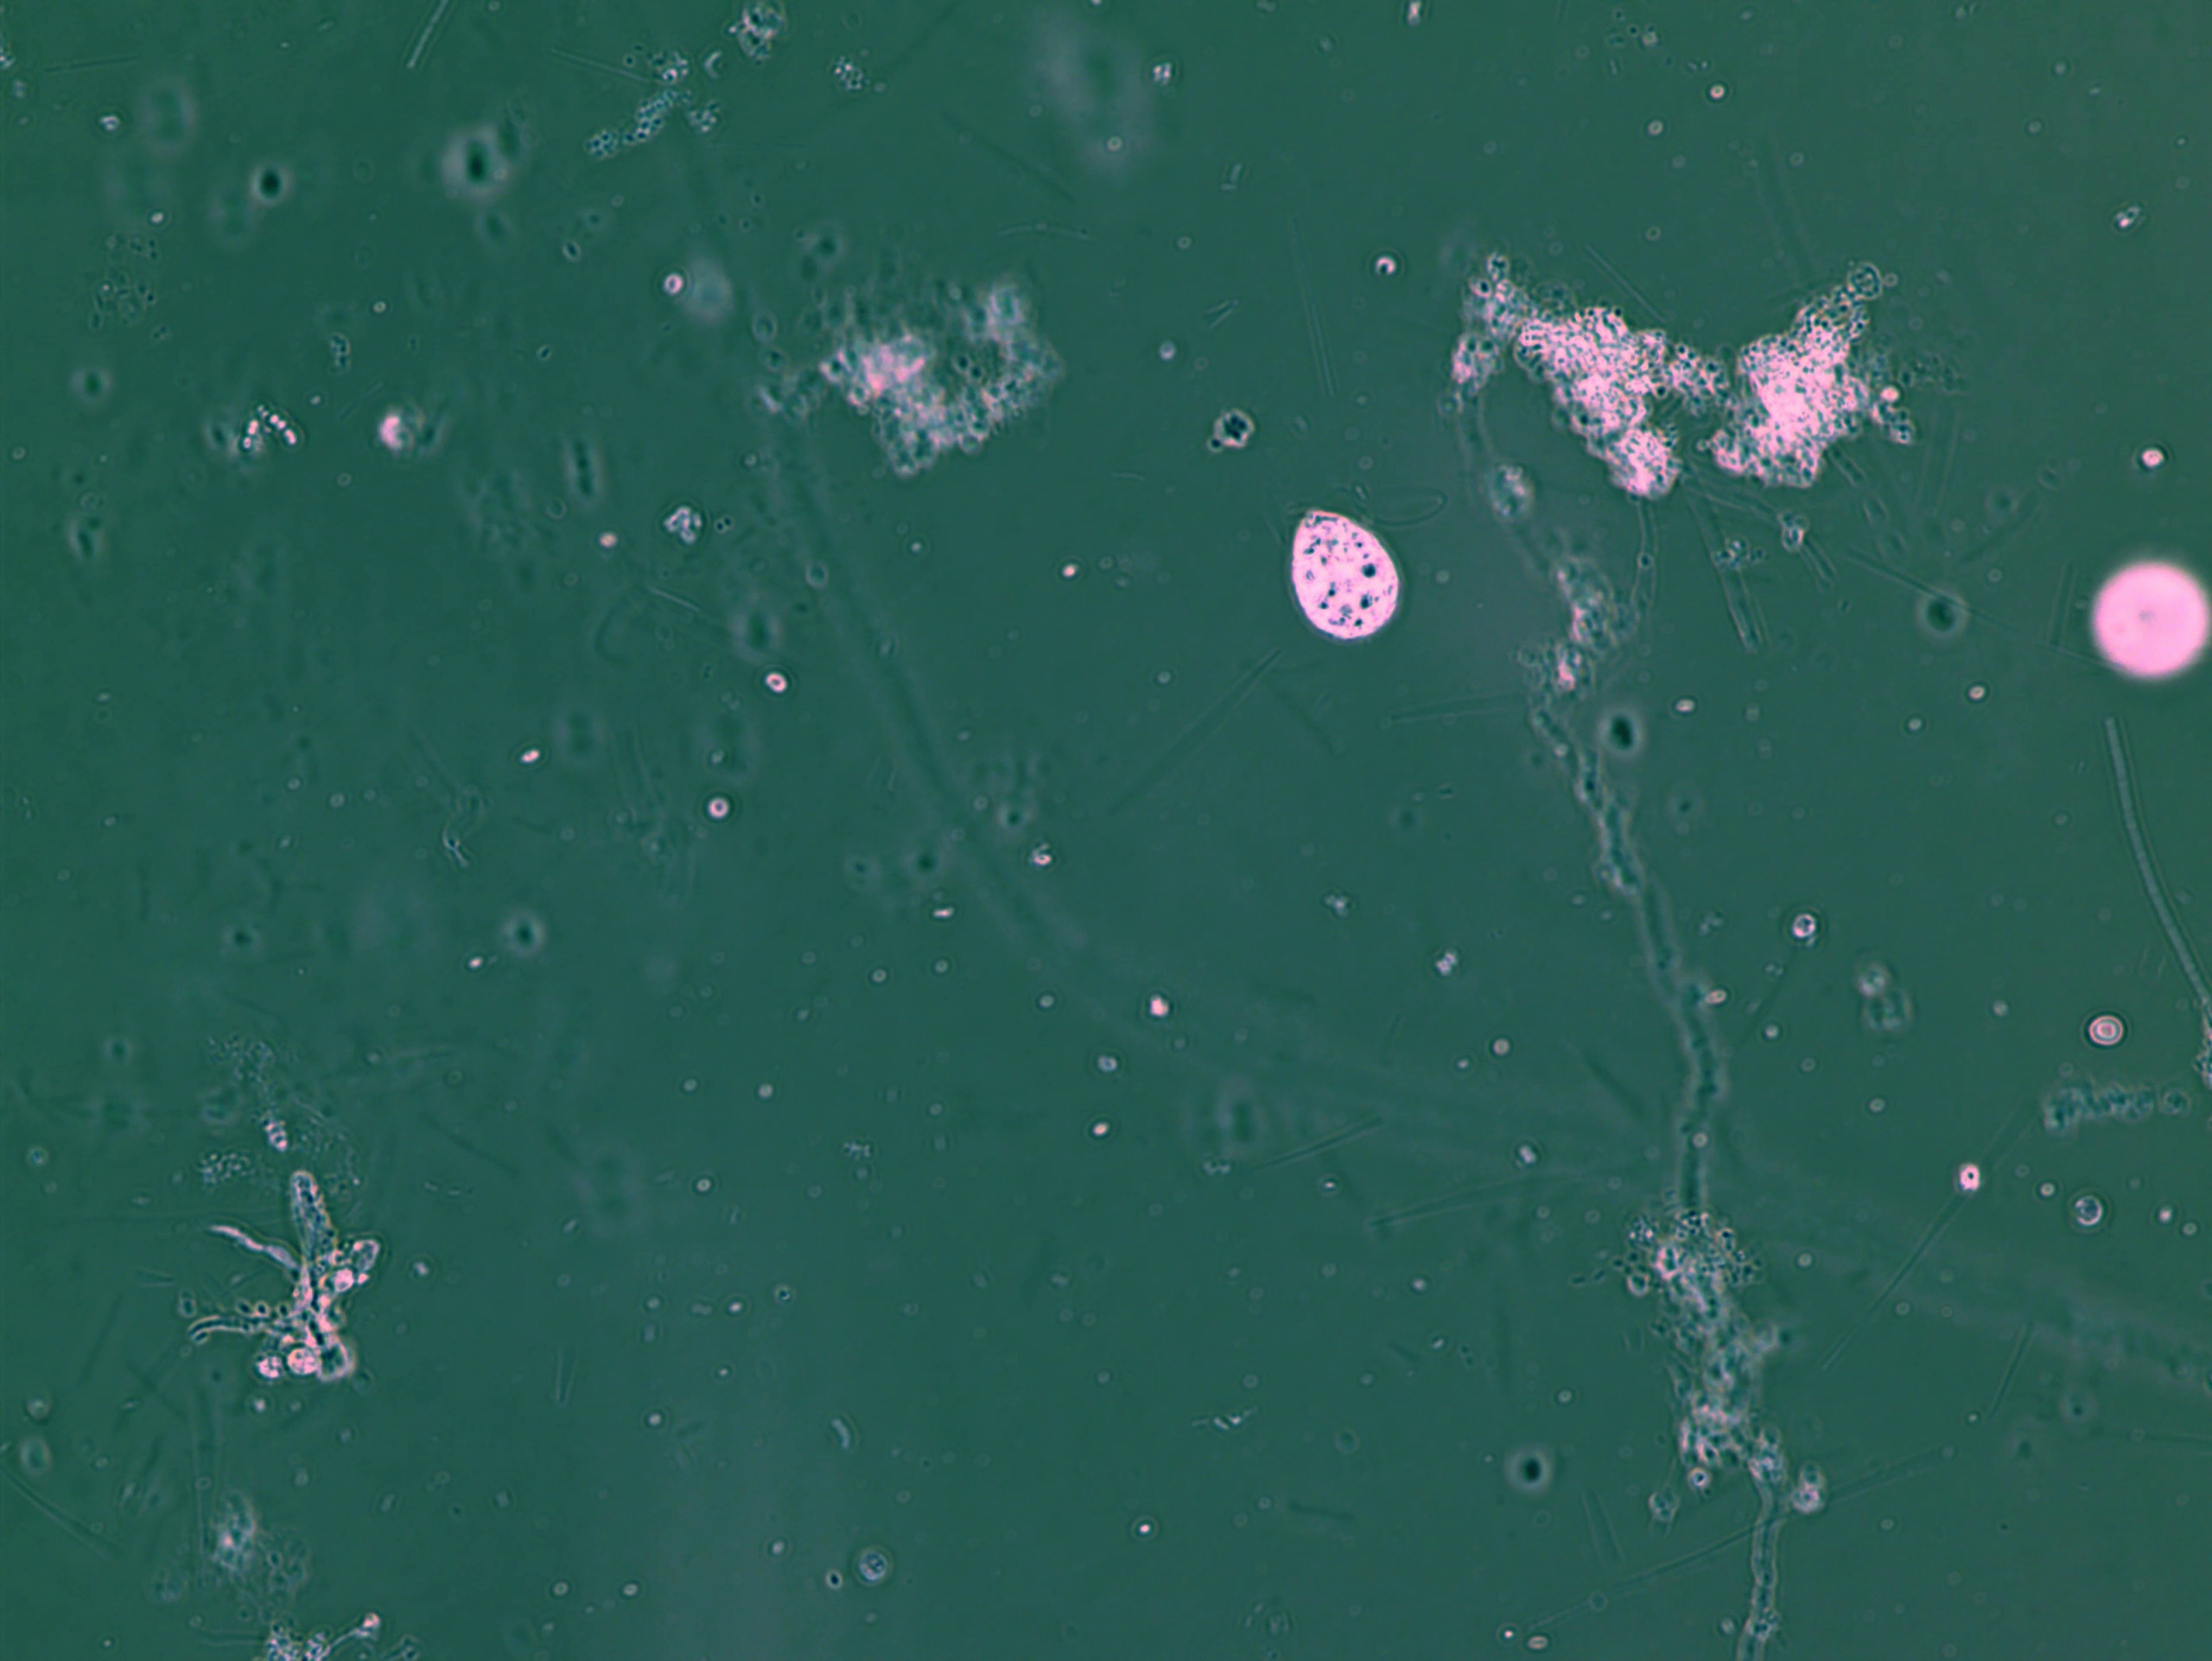depth:0: (1244, 473, 1423, 668)
